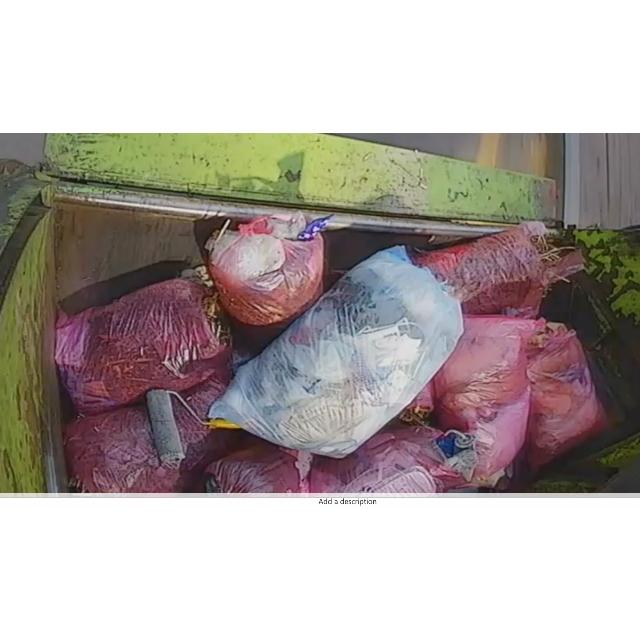other_trashbag: (210, 246, 464, 457), (55, 278, 228, 412), (434, 314, 536, 484), (408, 221, 585, 317), (65, 396, 211, 492), (205, 213, 324, 324), (528, 322, 604, 468), (310, 426, 478, 492), (205, 442, 312, 493), (182, 377, 226, 418)
